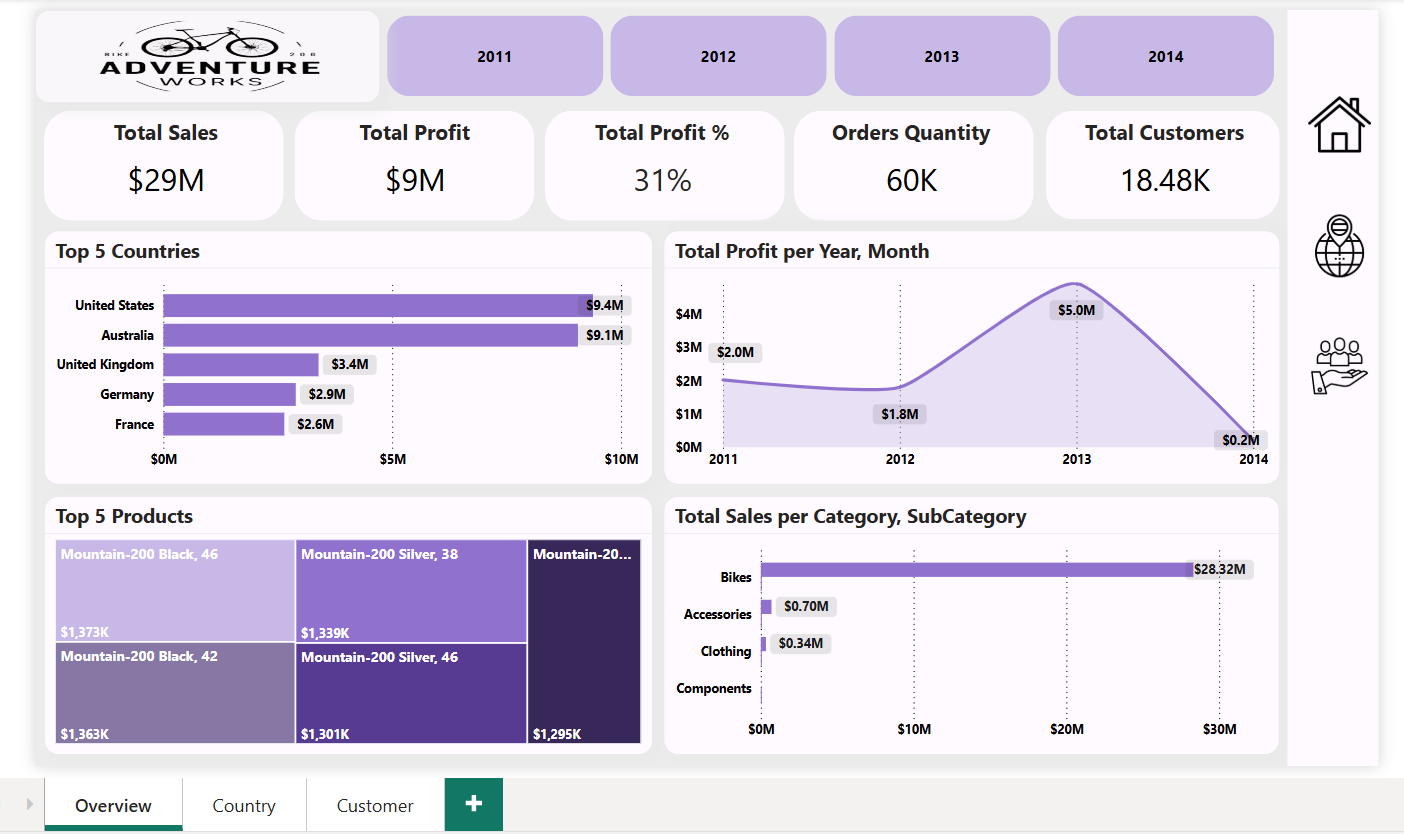

What the dashboard file says about the page in this screenshot:
{"tool":"powerbi","page":{"name":"Overview","canvas":[1280,720],"ordinal":0},"visuals":[{"type":"shape","box":[723.3,95,228.3,105],"z":0},{"type":"shape","box":[246.7,95,228.3,105],"z":1000},{"type":"shape","box":[8.3,95,228.3,105],"z":2000},{"type":"card","title":"Total Profit","fields":{"Values":["Fact Sales.Total Profit"]},"box":[250,103.3,223.3,90],"z":3000},{"type":"card","title":"Orders Quantity","fields":{"Values":["Sum(Fact Sales.OrderQuantity)"]},"box":[723.3,103.3,223.3,90],"z":4000},{"type":"card","title":"Total Sales","fields":{"Values":["Sum(Fact Sales.UnitPrice)"]},"box":[13.3,103.3,223.3,90],"z":5000},{"type":"shape","box":[485,95,228.3,105],"z":6000},{"type":"card","title":"Total Profit %","fields":{"Values":["Fact Sales.Profit %"]},"box":[485,103.3,223.3,90],"z":7000},{"type":"advancedSlicerVisual","title":"Year","fields":{"Values":["Date.CalendarYear"]},"box":[329.3,0,855.2,87.9],"z":8000},{"type":"lineChart","title":"Total Profit per Year, Month","fields":{"Category":["Date.CalendarYear","Date.EnglishMonthName"],"Y":["Fact Sales.Total Profit"]},"box":[598.3,210,587,241.7],"z":9000},{"type":"clusteredBarChart","title":"Top 5 Countries","fields":{"Category":["Territory.SalesTerritoryCountry"],"Y":["Sum(Fact Sales.UnitPrice)"]},"box":[8.3,210,580,241.7],"z":10000},{"type":"clusteredBarChart","title":"Total Sales per Category, SubCategory","fields":{"Category":["New Product.Category.EnglishProductCategoryName","New Product.Category.Subcategory.EnglishProductSubcategoryName"],"Y":["Sum(Fact Sales.UnitPrice)","CountNonNull(New Product.Category.ProductCategoryKey)"]},"box":[598.3,463.3,586.7,246.7],"z":11000},{"type":"treemap","title":"Top 5 Products","fields":{"Group":["New Product.EnglishProductName"],"Values":["Sum(Fact Sales.Total Sales)"]},"box":[8.3,463.3,580,246.7],"z":12000},{"type":"image","box":[0,0,328.3,88.3],"z":13000},{"type":"textbox","box":[1193.3,0,86.7,720],"z":14000},{"type":"shape","box":[962.3,95.5,222.9,103.8],"z":15000},{"type":"group","id":"g1","title":"Group 1","box":[1207.4,63.7,70.6,319.8],"z":16000},{"type":"image","box":[1207.4,63.7,70.6,89.4],"z":17000,"group":"g1"},{"type":"card","title":"Total Customers","fields":{"Values":["CountNonNull(Customer.CustomerKey)"]},"box":[964.3,102.9,222.9,90],"z":17000},{"type":"image","box":[1207.4,294.2,70.6,89.4],"z":18000,"group":"g1"},{"type":"image","box":[1207.4,178.9,70.6,89.4],"z":19000,"group":"g1"}]}

Visuals, with their boxes on the page's 1280x720 design canvas (x1, y1, x2, y2). These are canvas units, not pixel positions in the 1404x834 screenshot, which may show the page scaled, cropped or inside an application window:
shape: region(723, 95, 952, 200)
shape: region(247, 95, 475, 200)
shape: region(8, 95, 237, 200)
"Total Profit" card: region(250, 103, 473, 193)
"Orders Quantity" card: region(723, 103, 947, 193)
"Total Sales" card: region(13, 103, 237, 193)
shape: region(485, 95, 713, 200)
"Total Profit %" card: region(485, 103, 708, 193)
"Year" advancedSlicerVisual: region(329, 0, 1184, 88)
"Total Profit per Year, Month" lineChart: region(598, 210, 1185, 452)
"Top 5 Countries" clusteredBarChart: region(8, 210, 588, 452)
"Total Sales per Category, SubCategory" clusteredBarChart: region(598, 463, 1185, 710)
"Top 5 Products" treemap: region(8, 463, 588, 710)
image: region(0, 0, 328, 88)
textbox: region(1193, 0, 1280, 720)
shape: region(962, 96, 1185, 199)
"Group 1" group: region(1207, 64, 1278, 384)
image: region(1207, 64, 1278, 153)
"Total Customers" card: region(964, 103, 1187, 193)
image: region(1207, 294, 1278, 384)
image: region(1207, 179, 1278, 268)
